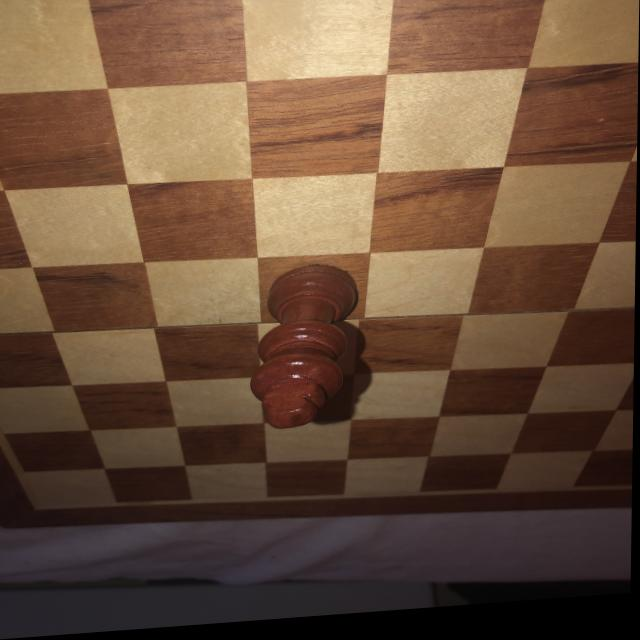black_king: (250, 264, 360, 437)
